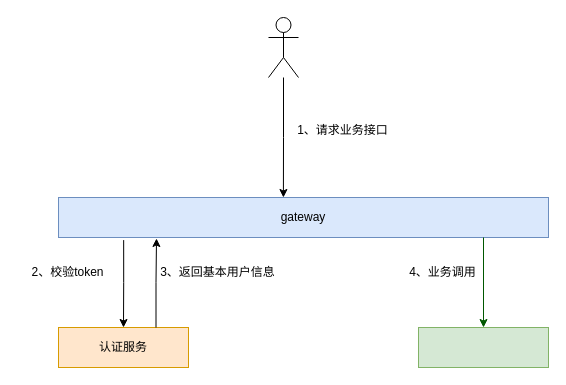
This 566x385 diagram has some shape labels left out. Each missing label, with the box of its shape:
业务服务: (418, 326, 548, 368)
用户: (268, 16, 298, 78)
